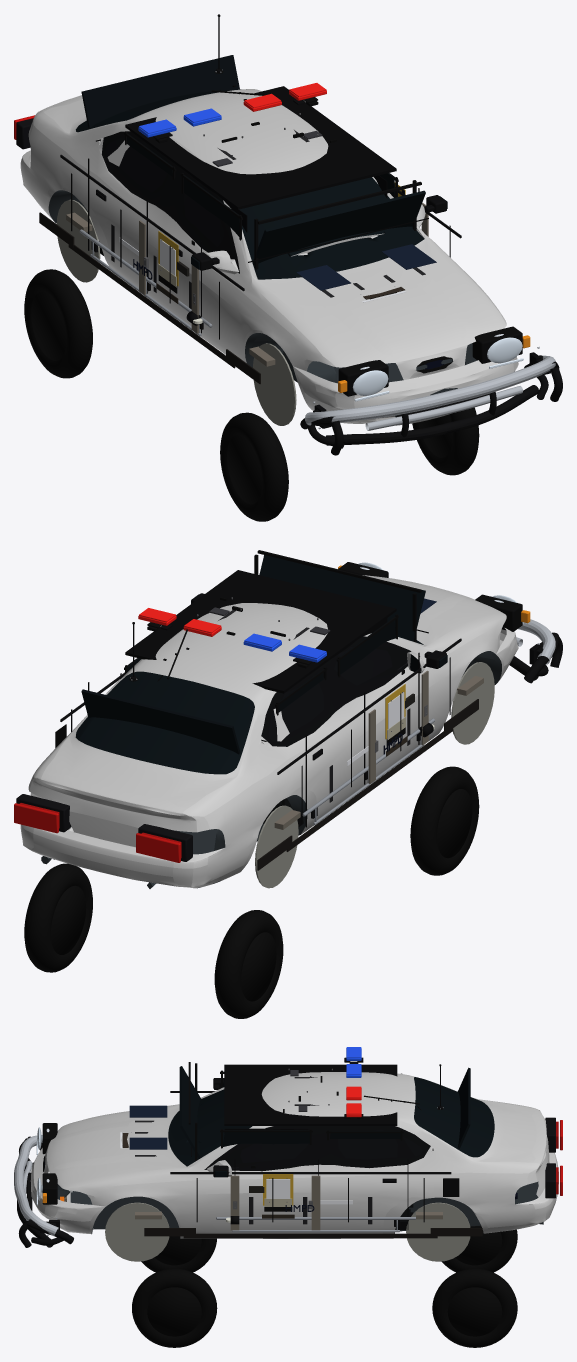
The model's file is hmpd_cruiser_v13b.obj.
3 views of the same model, one above another, from view 1: azimuth 30°, elevation 25°; view 2: azimuth 150°, elevation 25°; view 3: azimuth 270°, elevation 25° (orthographic). The views are drawn at different scales.
Parts seen in each view (by area): view 1: Body.002, v11_int_head, rearglass_v10, windshield_v10, v13_tire_RR, v13_tire_FR, pushbar_upper, v11_sidewall_1, pushbar_lower, v13_tire_FL, v11_sidewall_3, v13_sidewall_RR_0.07 (+13 smaller); view 2: Body.002, v11_int_head, v13_tire_RR, v13_tire_FR, v13_tire_RL, windshield_v10, rearglass_v10, v11_sidewall_1, v11_sidewall_3, v13_sidewall_RR_0.07, v13_sidewall_FR_0.07, v13_sidewall_RL_-0.07 (+10 smaller); view 3: Body.002, v11_int_head, v13_tire_FL, v13_tire_RL, v11_sidewall_0, v11_sidewall_2, v13_sidewall_FL_0.07, v13_sidewall_RL_0.07, dirt_rocker_1, windshield_v10, pushbar_upper, winpane_FR (+18 smaller).
Boxes of the visible parts, x1,y1,x2,y2 form: Body.002: [20, 89, 518, 425]; v11_int_head: [125, 86, 396, 209]; rearglass_v10: [81, 55, 239, 128]; windshield_v10: [252, 190, 425, 265]; v13_tire_RR: [24, 269, 92, 378]; v13_tire_FR: [220, 412, 288, 521]; pushbar_upper: [305, 355, 555, 425]; v11_sidewall_1: [253, 343, 296, 425]; pushbar_lower: [326, 385, 538, 445]; v13_tire_FL: [412, 407, 479, 475]; v11_sidewall_3: [56, 199, 100, 282]; v13_sidewall_RR_0.07: [31, 291, 66, 360]; Body.002: [20, 575, 518, 888]; v11_int_head: [125, 570, 396, 693]; v13_tire_RR: [214, 910, 283, 1018]; v13_tire_FR: [410, 766, 479, 875]; v13_tire_RL: [24, 863, 92, 972]; windshield_v10: [259, 555, 425, 641]; rearglass_v10: [81, 689, 240, 754]; v11_sidewall_1: [451, 662, 494, 744]; v11_sidewall_3: [255, 805, 298, 888]; v13_sidewall_RR_0.07: [241, 932, 276, 1001]; v13_sidewall_FR_0.07: [437, 789, 472, 858]; v13_sidewall_RL_-0.07: [50, 885, 86, 954]; Body.002: [30, 1072, 558, 1238]; v11_int_head: [224, 1064, 397, 1125]; v13_tire_FL: [132, 1268, 217, 1347]; v13_tire_RL: [432, 1268, 517, 1347]; v11_sidewall_0: [105, 1202, 169, 1261]; v11_sidewall_2: [406, 1202, 470, 1261]; v13_sidewall_FL_0.07: [147, 1287, 201, 1336]; v13_sidewall_RL_0.07: [447, 1287, 502, 1336]; dirt_rocker_1: [183, 1233, 437, 1238]; windshield_v10: [179, 1066, 200, 1158]; pushbar_upper: [14, 1135, 58, 1236]; winpane_FR: [223, 1130, 309, 1146].
Size of what is drawn, in the model's own units: 2.06 by 2.69 by 5.08.
